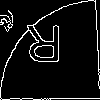R: (25, 25, 63, 72)
